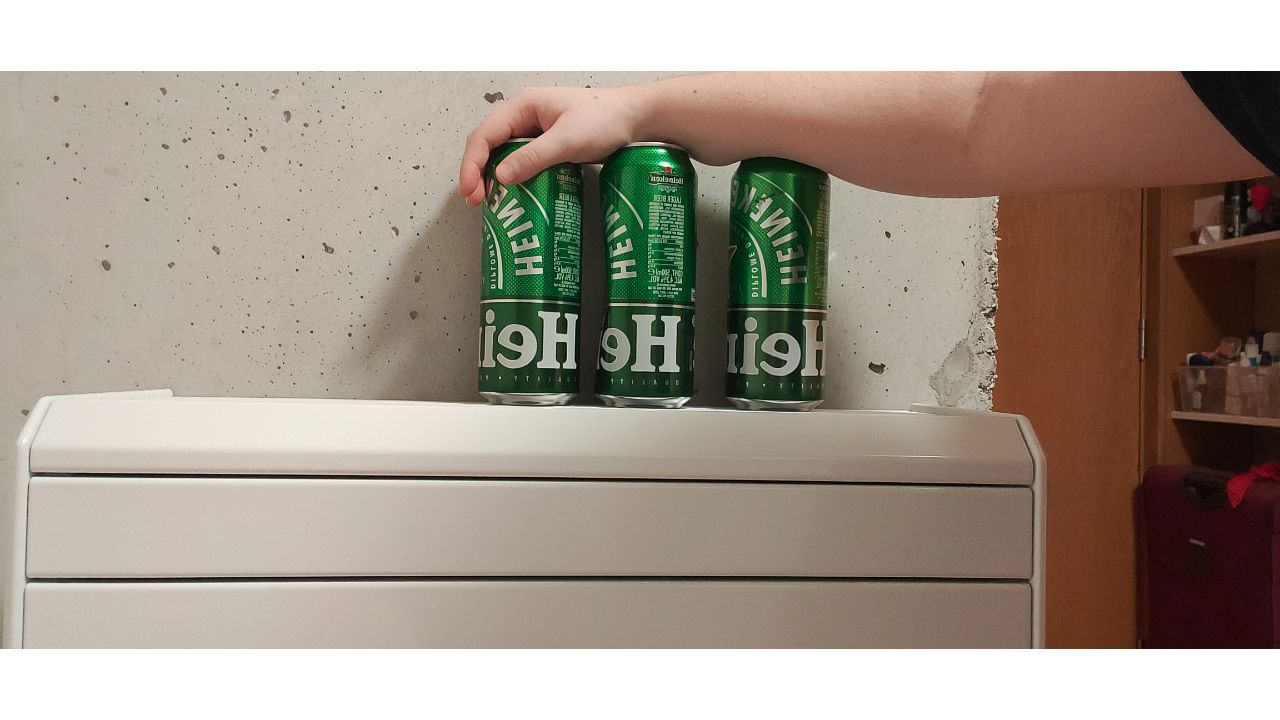Can: (477, 129, 584, 402), (600, 142, 700, 408), (726, 158, 826, 415)
